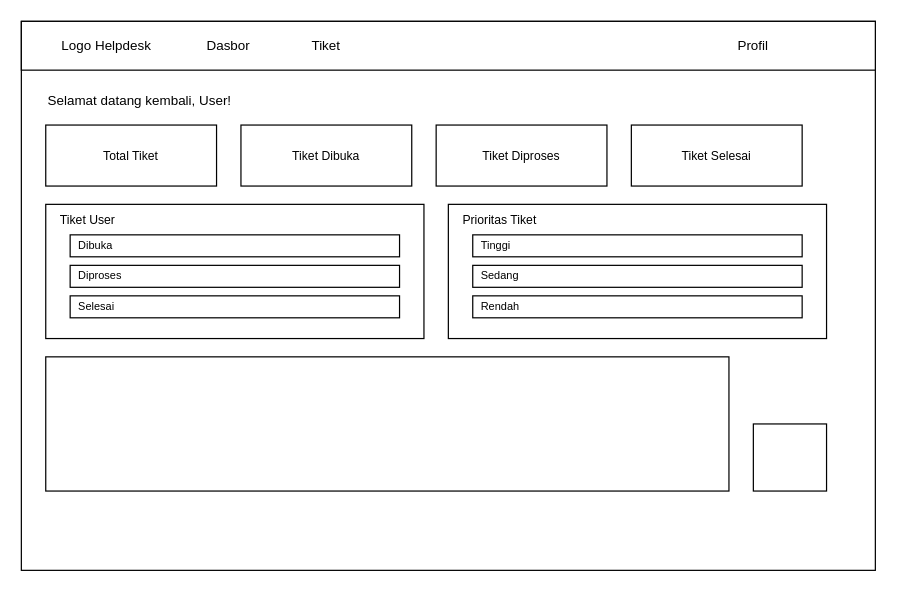
Some shapes in this 897 by 592 pixel diagram are drawn without their labels. Each missing label, with the centre of its shape:
Chat AI: point (789, 457)
Tabel Tiket: point (387, 423)
